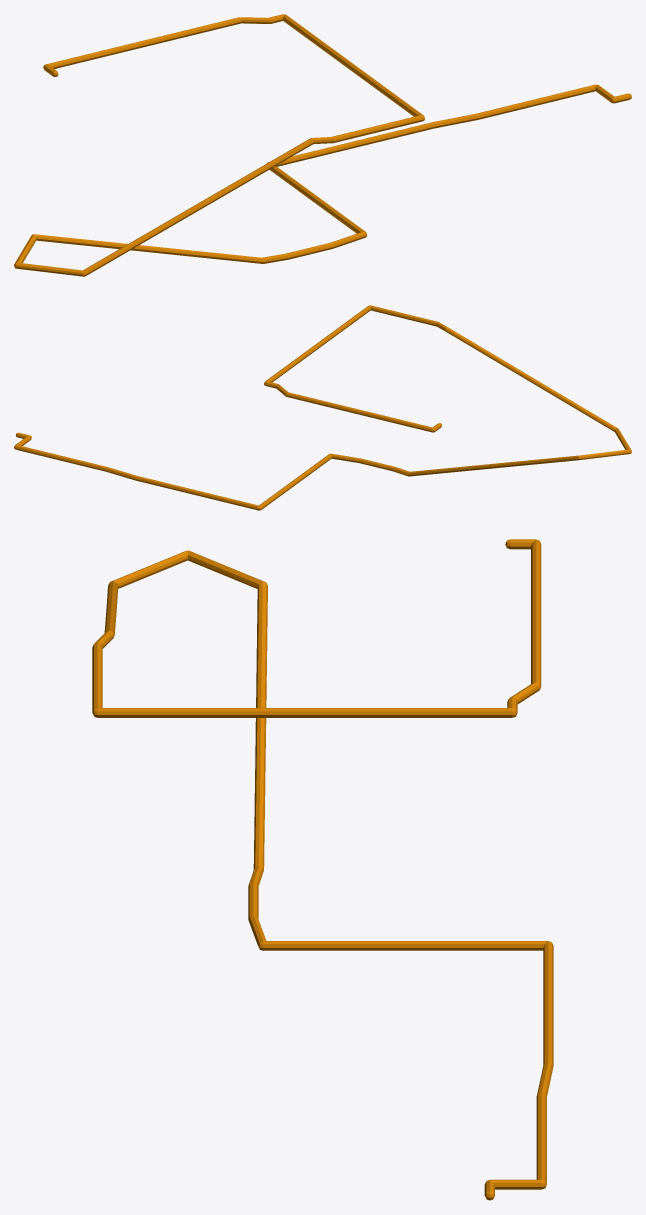
3 views of the same model, one above another, from view 1: azimuth 30°, elevation 25°; view 2: azimuth 150°, elevation 25°; view 3: azimuth 270°, elevation 25° (orthographic). The views are drawn at different scales.
Size of the model in its own units: 2406 by 520 by 889.
